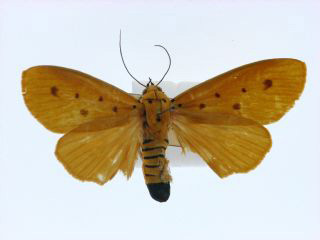Agape chloropyga: (16, 24, 307, 205)
moth: (18, 26, 309, 207)
